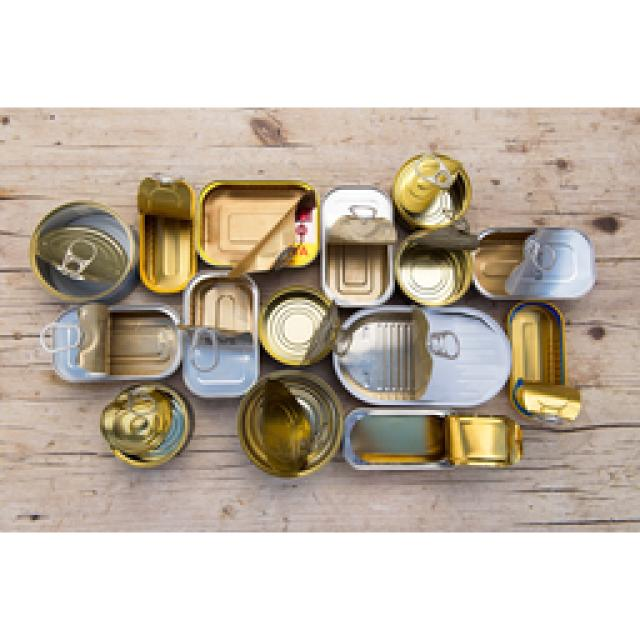alumunium: (30, 152, 592, 475), (100, 385, 188, 465)
